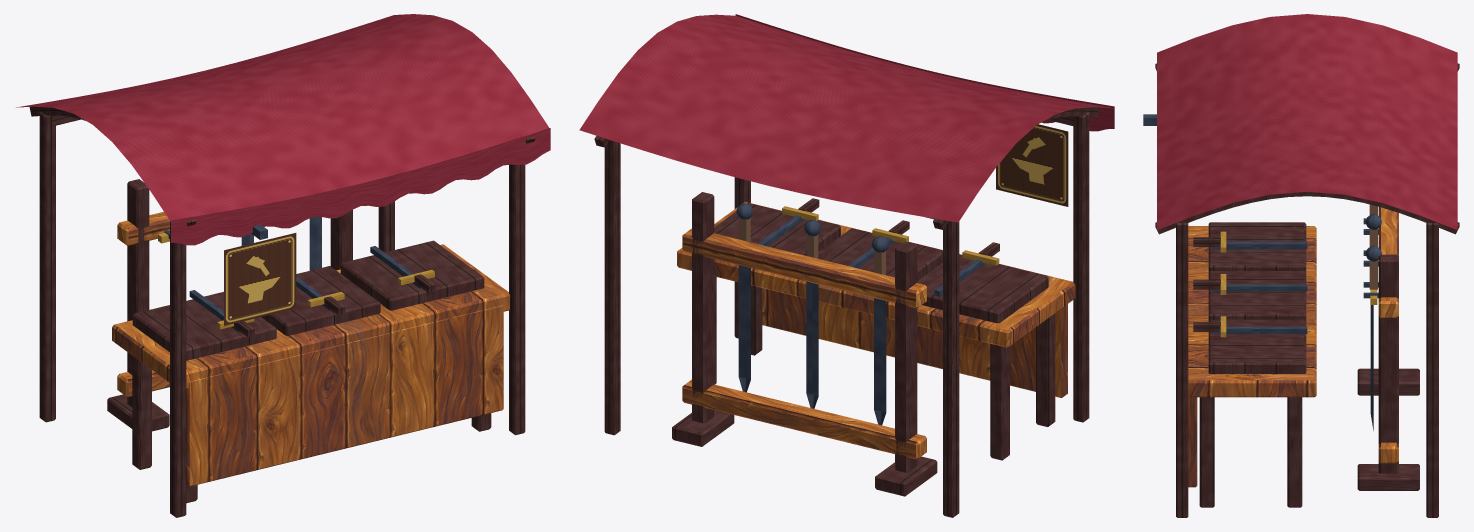
The model's file is Weapon_Stall.fbx.
The picture shows the model from 3 angles, left to right: view 1: azimuth 30°, elevation 25°; view 2: azimuth 150°, elevation 25°; view 3: azimuth 270°, elevation 25°; orthographic projection. The views are drawn at different scales.
Parts seen in each view (by area): view 1: Draped stitched awning.009, Counter front.009, Scalloped canvas hem.009, Counter top.009, Painted shop sign.009, Display tray.029, Canopy post.037, Canopy post.036, Canopy post.038, Display tray.027, Display tray.028, Rack upright.004 (+6 smaller); view 2: Draped stitched awning.009, Counter front.009, Counter top.009, Rack support rail.004, Rack support rail.005, Canopy post.036, Canopy post.037, Canopy post.039, Rack upright.004, Rack upright.005, Display tray.027, Painted shop sign.009 (+12 smaller); view 3: Draped stitched awning.009, Counter top.009, Display tray.029, Display tray.028, Display tray.027, Canopy post.038, Canopy post.039, Rack upright.005, Counter leg.038, Counter leg.039, Rack braced foot.005, Rack support rail.005 (+7 smaller).
Part boxes in pixels (left/top/right/bottom): Draped stitched awning.009: left=16, top=14, right=549, bottom=221; Counter front.009: left=186, top=305, right=503, bottom=486; Scalloped canvas hem.009: left=171, top=128, right=550, bottom=245; Counter top.009: left=112, top=244, right=509, bottom=388; Painted shop sign.009: left=224, top=233, right=296, bottom=325; Display tray.029: left=340, top=240, right=484, bottom=310; Canopy post.037: left=39, top=111, right=55, bottom=422; Canopy post.036: left=170, top=221, right=186, bottom=517; Canopy post.038: left=509, top=164, right=525, bottom=435; Display tray.027: left=132, top=292, right=276, bottom=360; Display tray.028: left=261, top=266, right=380, bottom=335; Rack upright.004: left=127, top=179, right=149, bottom=407; Draped stitched awning.009: left=579, top=14, right=1113, bottom=222; Counter front.009: left=762, top=288, right=1067, bottom=397; Counter top.009: left=677, top=202, right=1075, bottom=347; Rack support rail.004: left=682, top=379, right=926, bottom=459; Rack support rail.005: left=682, top=228, right=926, bottom=308; Canopy post.036: left=1073, top=112, right=1089, bottom=422; Canopy post.037: left=943, top=221, right=959, bottom=517; Canopy post.039: left=604, top=140, right=620, bottom=435; Rack upright.004: left=895, top=241, right=917, bottom=472; Rack upright.005: left=692, top=192, right=714, bottom=423; Display tray.027: left=917, top=254, right=1048, bottom=323; Painted shop sign.009: left=996, top=124, right=1068, bottom=206; Draped stitched awning.009: left=1157, top=14, right=1457, bottom=230; Counter top.009: left=1188, top=226, right=1316, bottom=397; Display tray.029: left=1208, top=319, right=1306, bottom=373; Display tray.028: left=1208, top=271, right=1306, bottom=320; Display tray.027: left=1208, top=222, right=1306, bottom=272; Canopy post.038: left=1176, top=223, right=1188, bottom=517; Canopy post.039: left=1426, top=223, right=1438, bottom=517; Rack upright.005: left=1378, top=254, right=1398, bottom=473; Counter leg.038: left=1199, top=397, right=1214, bottom=507; Counter leg.039: left=1287, top=397, right=1302, bottom=507; Rack braced foot.005: left=1357, top=464, right=1419, bottom=490; Rack support rail.005: left=1378, top=207, right=1398, bottom=317.
Size of the model in its own units: 336 by 294 by 253.
